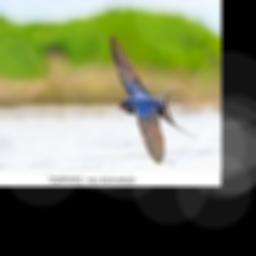Swallow: (110, 32, 197, 164)
